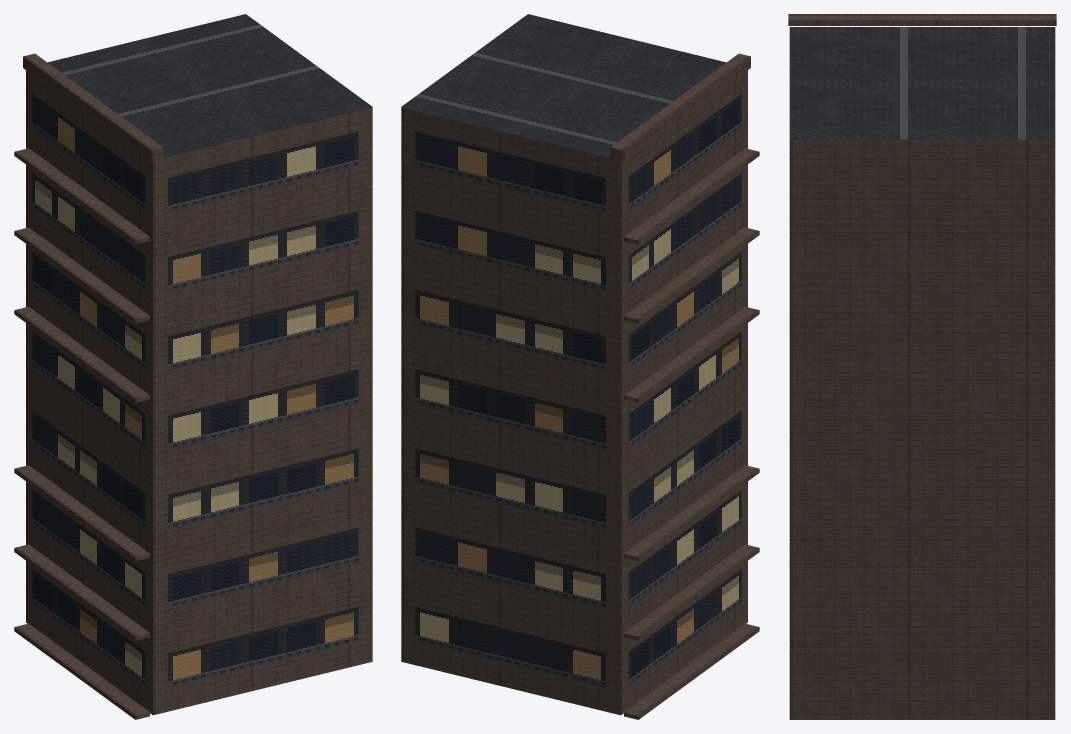
The model's file is mtn_block_tier_b.glb.
3 views of the same model, side by side, from view 1: azimuth 30°, elevation 25°; view 2: azimuth 150°, elevation 25°; view 3: azimuth 270°, elevation 25° (orthographic). The views are drawn at different scales.
Parts seen in each view (by area): view 1: mtn_block_tier_b; view 2: mtn_block_tier_b; view 3: mtn_block_tier_b.
Part boxes in pixels (left/top/right/bottom): mtn_block_tier_b: left=14, top=14, right=372, bottom=719; mtn_block_tier_b: left=401, top=14, right=759, bottom=719; mtn_block_tier_b: left=788, top=14, right=1056, bottom=719.
Size of the model in its own units: 9.6 by 22.27 by 9.1.
3 materials, 3 textured.
